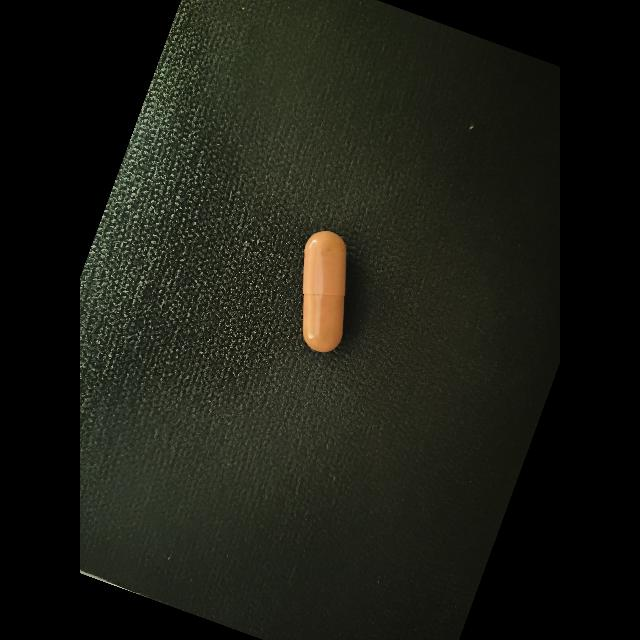Intact Capsule: (303, 231, 346, 352)
